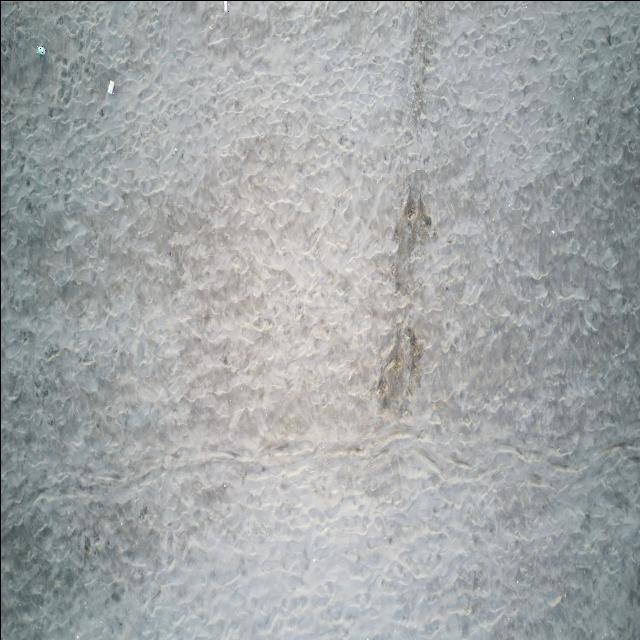Garbage: (107, 80, 114, 94), (36, 45, 44, 55), (223, 0, 227, 12)
